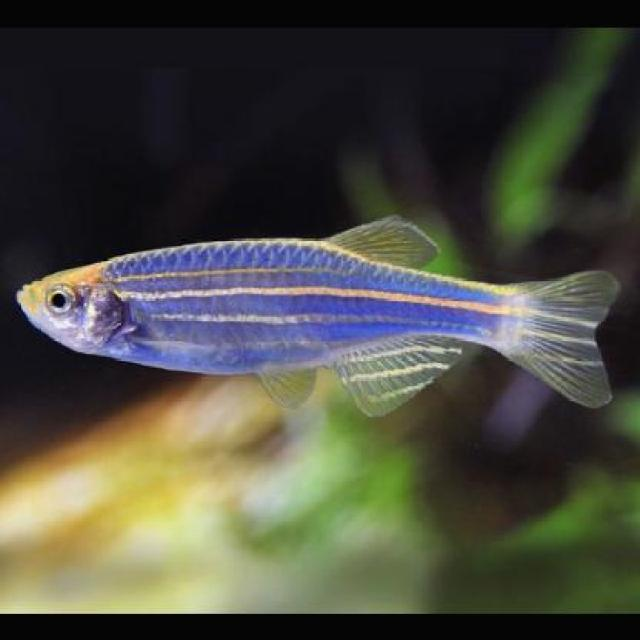ZebraFish: (17, 207, 623, 415)
